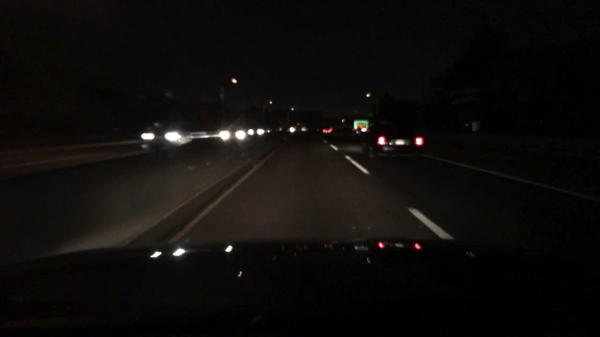car: (359, 118, 430, 161), (138, 125, 189, 149), (218, 127, 249, 146), (353, 118, 370, 138), (319, 124, 339, 139), (288, 122, 310, 135), (248, 125, 267, 138)
traffic sign: (473, 122, 478, 132)
